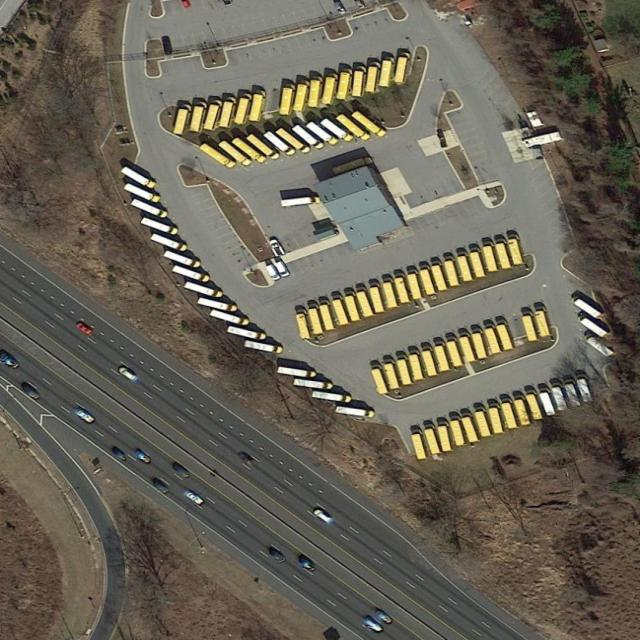large-vehicle: (246, 133, 283, 161), (275, 128, 313, 155), (199, 143, 238, 169), (351, 111, 388, 138), (336, 114, 371, 142), (232, 137, 268, 164), (218, 140, 252, 167), (292, 124, 326, 151), (120, 166, 159, 189), (263, 131, 297, 157), (320, 118, 355, 143), (130, 198, 170, 219), (306, 122, 339, 146), (124, 183, 163, 203), (140, 217, 180, 236), (577, 315, 608, 339), (172, 265, 211, 284), (151, 233, 188, 253), (164, 250, 202, 269), (571, 297, 603, 319), (585, 335, 615, 358), (354, 287, 375, 319), (210, 310, 251, 326), (184, 282, 224, 298), (369, 365, 390, 395), (494, 320, 514, 351), (198, 298, 239, 313), (331, 294, 350, 326), (203, 99, 222, 131), (460, 413, 480, 443), (434, 340, 452, 373), (500, 398, 519, 429), (525, 390, 544, 421), (406, 349, 425, 380), (228, 326, 267, 341), (537, 388, 557, 417), (456, 251, 474, 283), (418, 265, 437, 295), (493, 239, 512, 269), (483, 324, 502, 354), (344, 290, 361, 323), (235, 92, 252, 125), (249, 89, 266, 122), (173, 103, 190, 136), (430, 261, 448, 292), (514, 395, 532, 426), (420, 345, 438, 376), (575, 374, 594, 403), (245, 340, 284, 354), (189, 101, 206, 133), (459, 332, 476, 364), (405, 270, 423, 300), (443, 257, 461, 287), (474, 407, 492, 437), (469, 248, 487, 278), (507, 235, 525, 265), (308, 303, 324, 336), (294, 80, 310, 113), (322, 72, 338, 105), (336, 68, 352, 101), (393, 273, 410, 304), (396, 355, 413, 386), (446, 336, 463, 367), (410, 429, 427, 460), (551, 382, 569, 411), (564, 379, 582, 408), (313, 391, 353, 404), (336, 406, 376, 419), (296, 309, 312, 341), (318, 299, 334, 331), (220, 97, 236, 129), (384, 358, 400, 390), (471, 329, 488, 359), (521, 312, 538, 342), (424, 424, 441, 454), (281, 195, 320, 208), (369, 283, 385, 314), (382, 278, 398, 309), (482, 242, 498, 273), (280, 83, 295, 116), (277, 367, 317, 379), (379, 56, 394, 88), (395, 52, 410, 83), (489, 403, 504, 434), (450, 416, 465, 446), (535, 308, 550, 338), (309, 76, 323, 108), (294, 379, 334, 390), (352, 66, 366, 97), (367, 62, 380, 93), (438, 423, 452, 451)
small-vehicle: (359, 616, 387, 635), (74, 407, 97, 425), (171, 462, 194, 480), (183, 489, 206, 507), (21, 382, 42, 401), (313, 507, 335, 525), (297, 555, 319, 573), (132, 449, 155, 466), (268, 239, 287, 258), (267, 546, 287, 564), (117, 365, 138, 382), (264, 264, 282, 282), (273, 261, 292, 278), (373, 609, 393, 625), (111, 447, 129, 464), (151, 479, 170, 495), (237, 451, 256, 467), (74, 321, 93, 336)
